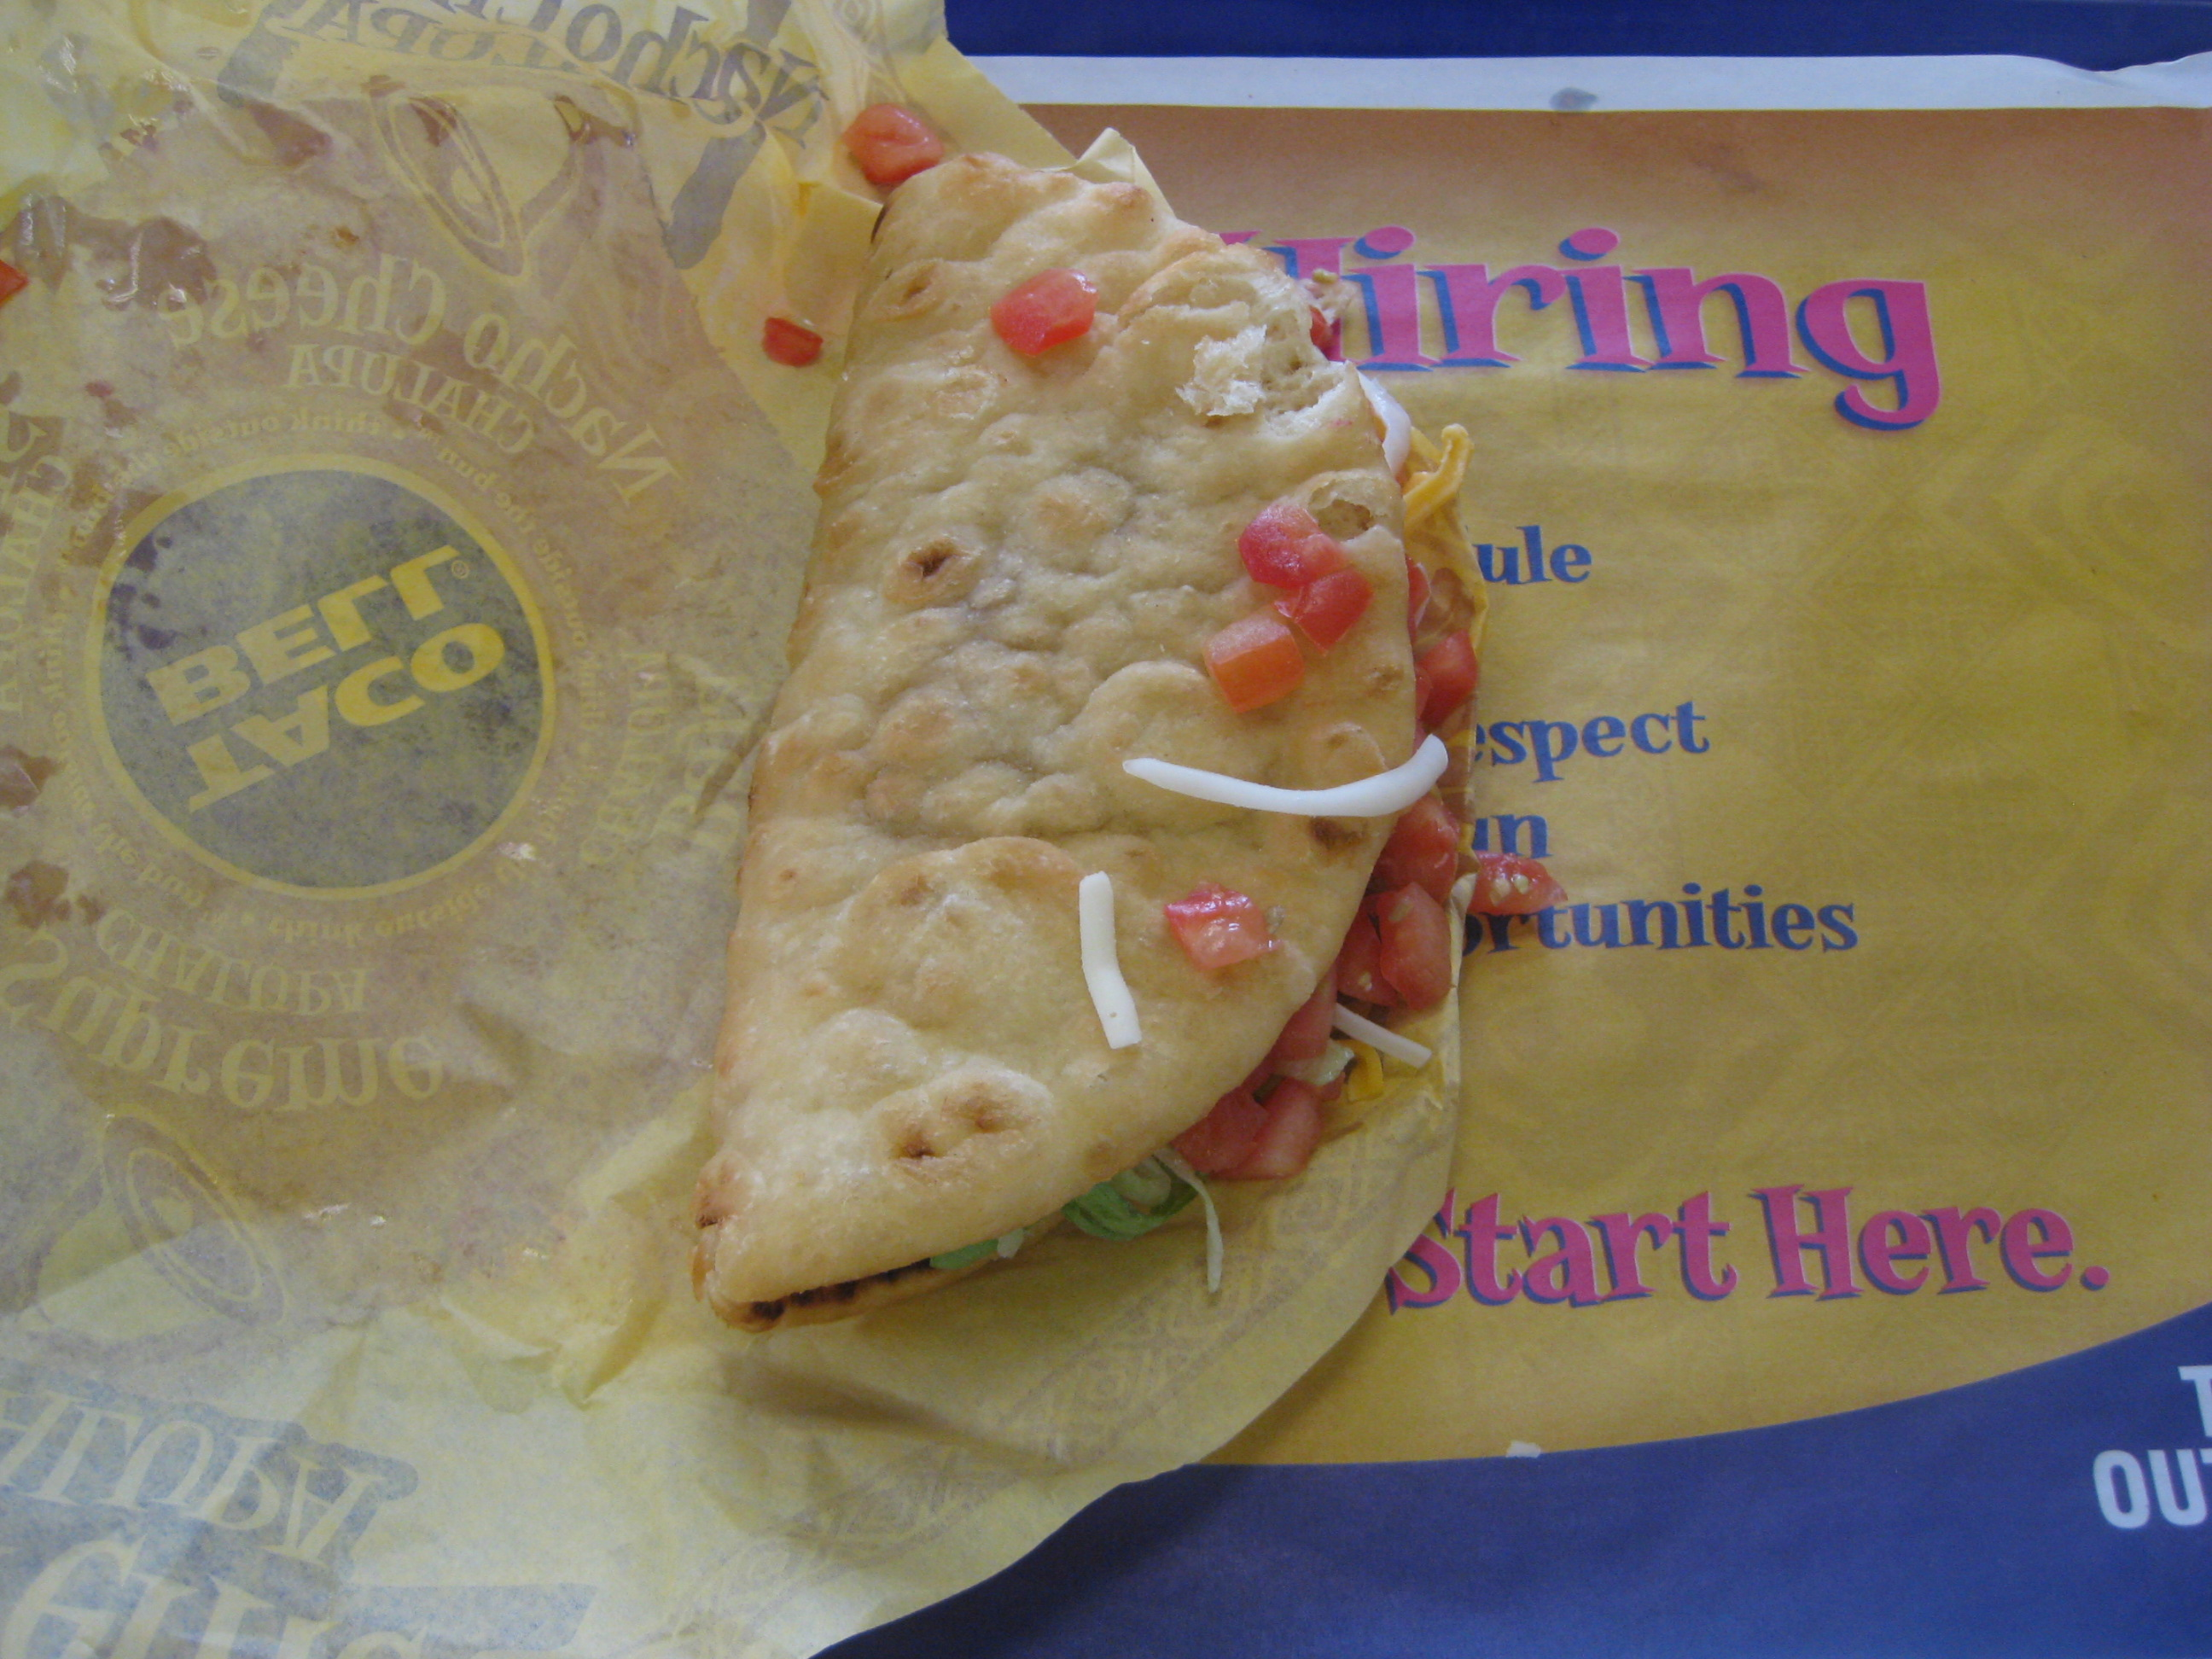taco: (690, 83, 1508, 1324)
